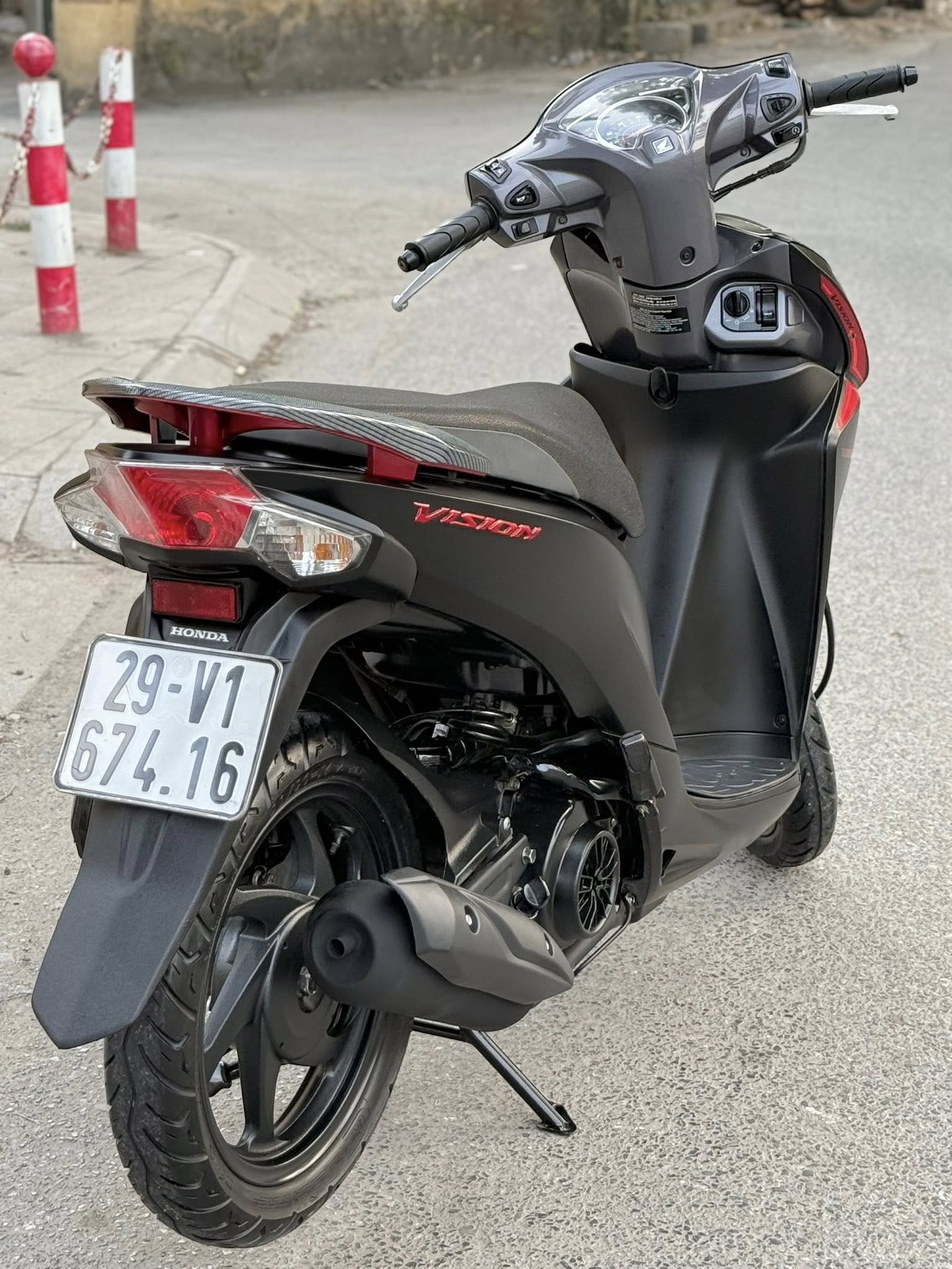bien_so: (48, 627, 297, 829)
